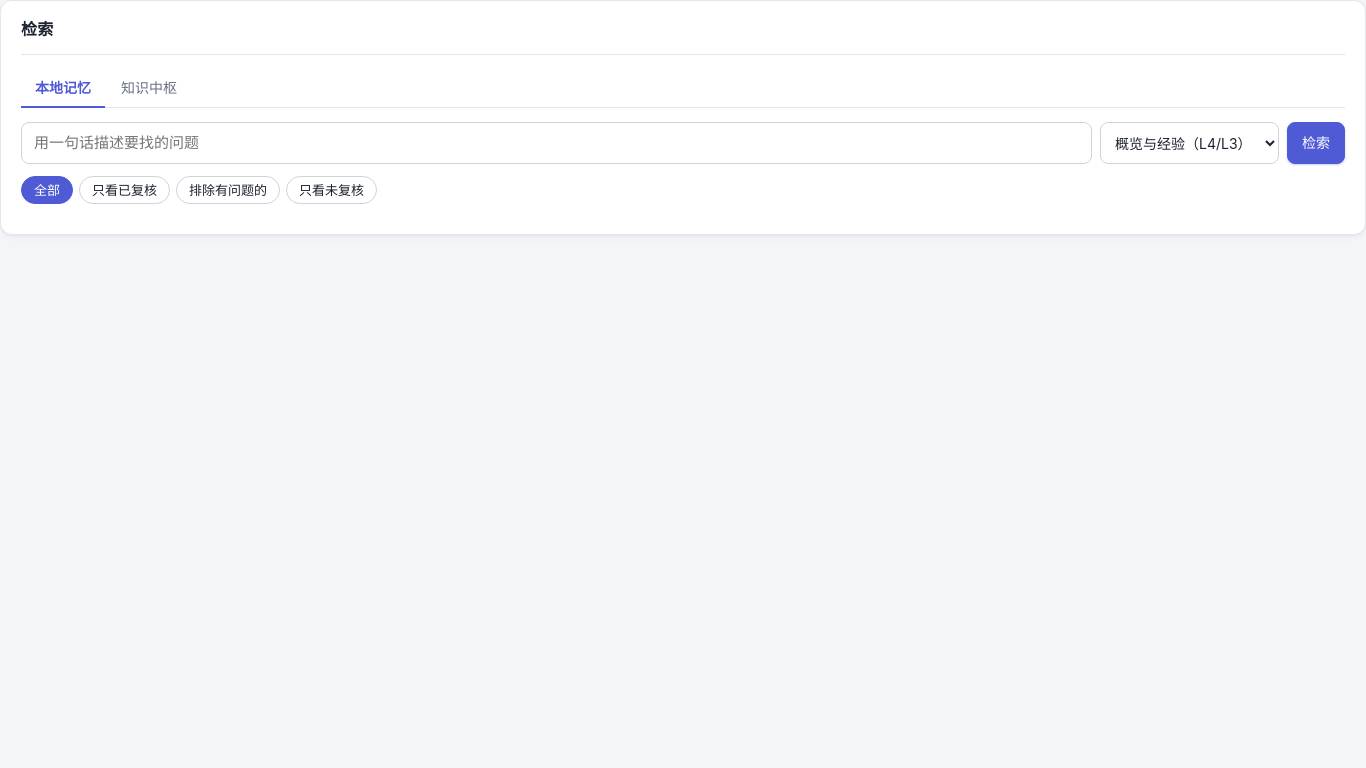
Test: 结果出来后切换复核过滤会用已提交的问题重新检索
This screenshot has width=1366, height=768.
Type "存储与检索" into the field labelled "问题".
click(556, 143); type("存储与检索")  # box [21, 122, 1092, 164]
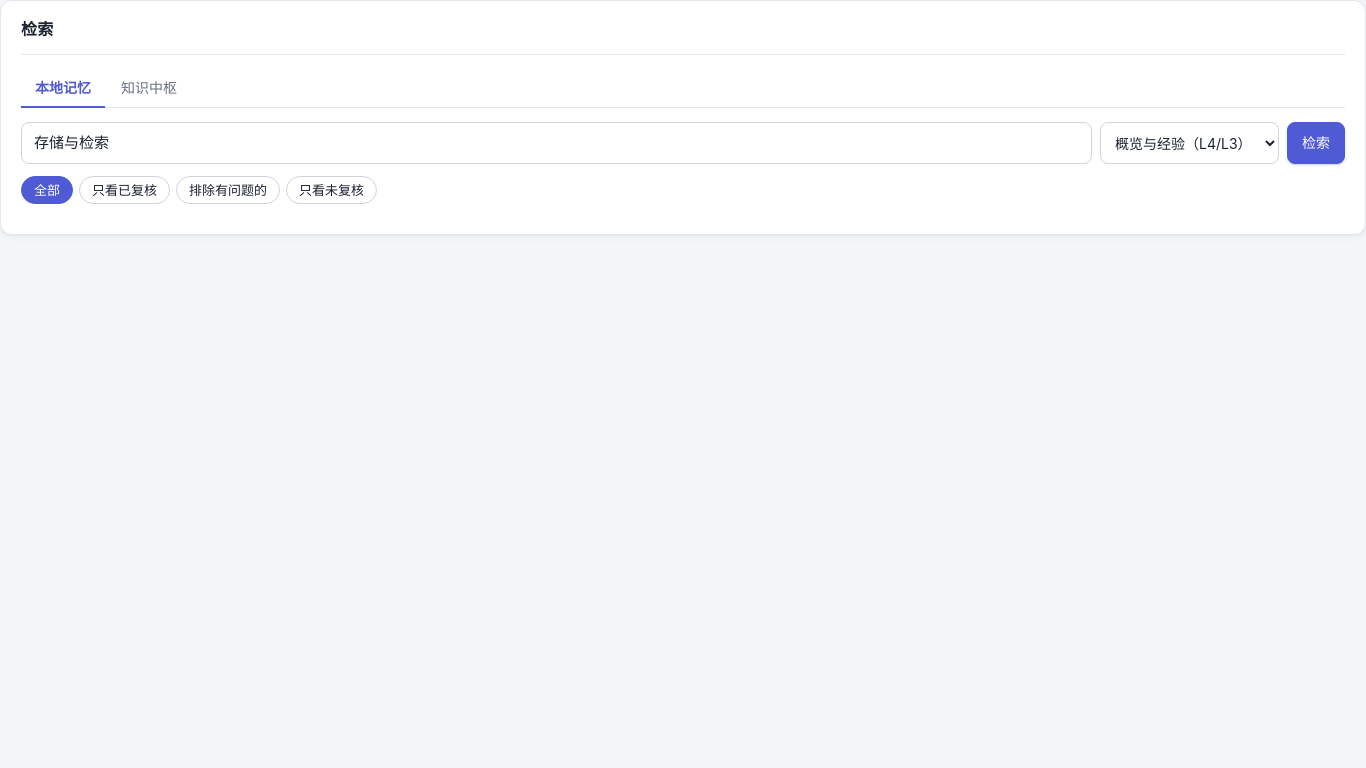
Click the button "检索".
click(1316, 143)  # box [1287, 122, 1345, 164]
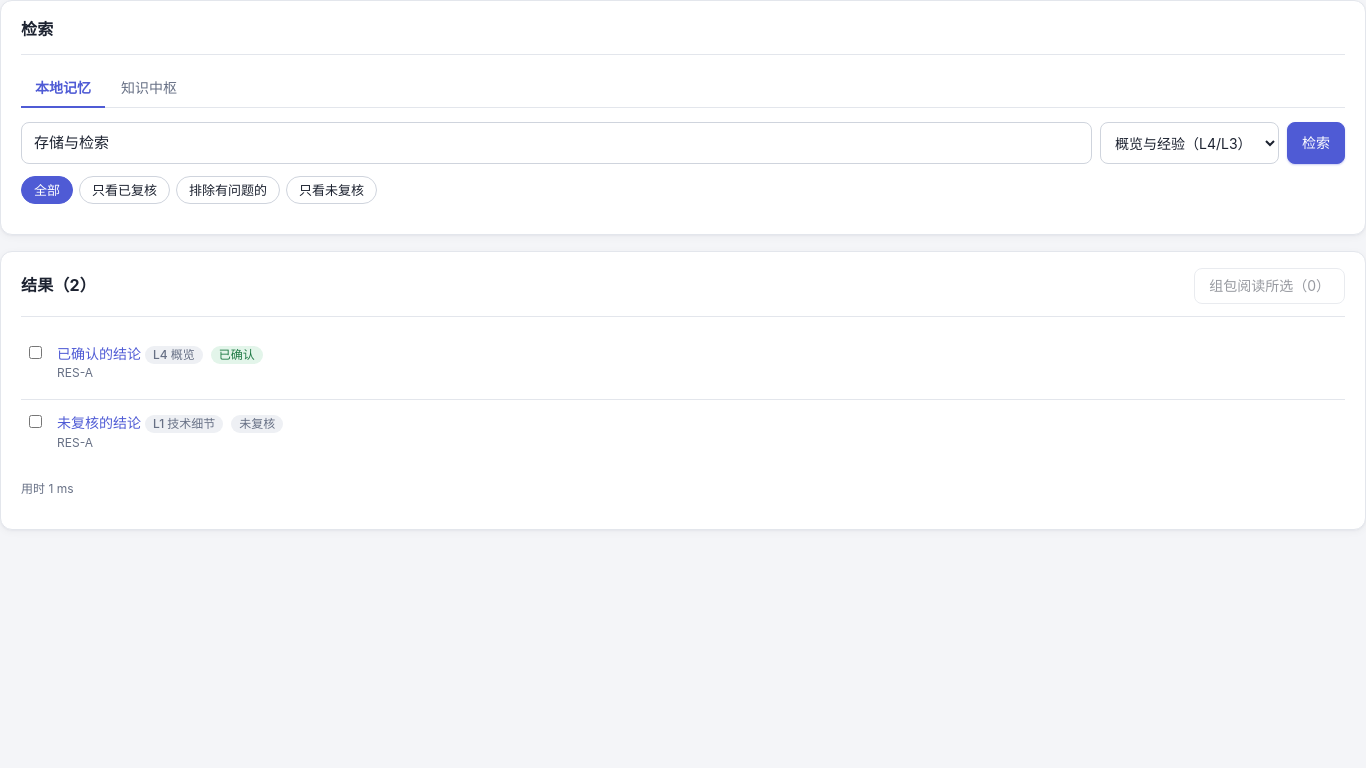
Expected: the link "未复核的结论" is shown, [57, 414, 141, 431]
输入框里改了但没提交的问题不应被带进重查
Replace the text in the field named "问题" with "另一个问题" at (556, 143), box [21, 122, 1092, 164]
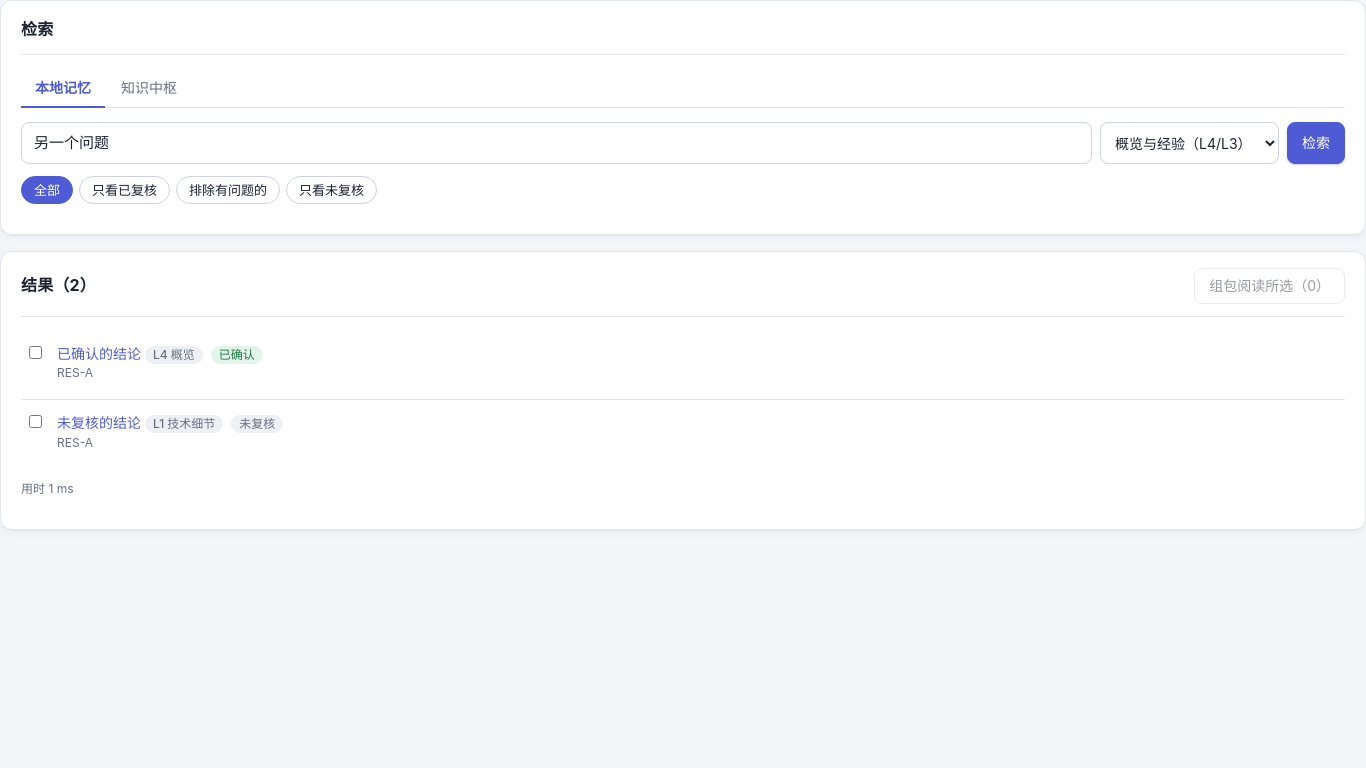
Click the radio button labelled "只看已复核".
click(124, 190)  # box [79, 176, 170, 204]
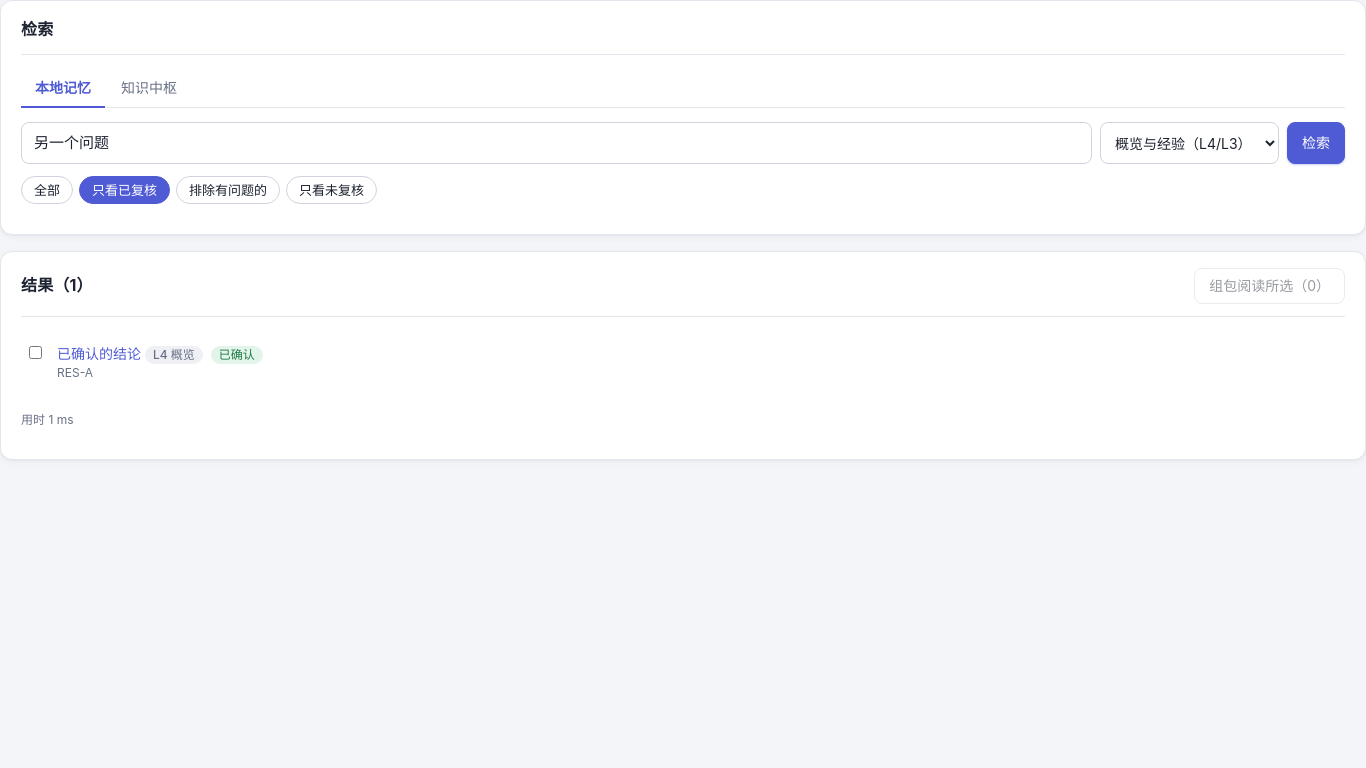
Expected: the link "已确认的结论" is shown, [57, 345, 141, 362]
Expected: the link "未复核的结论" is gone
